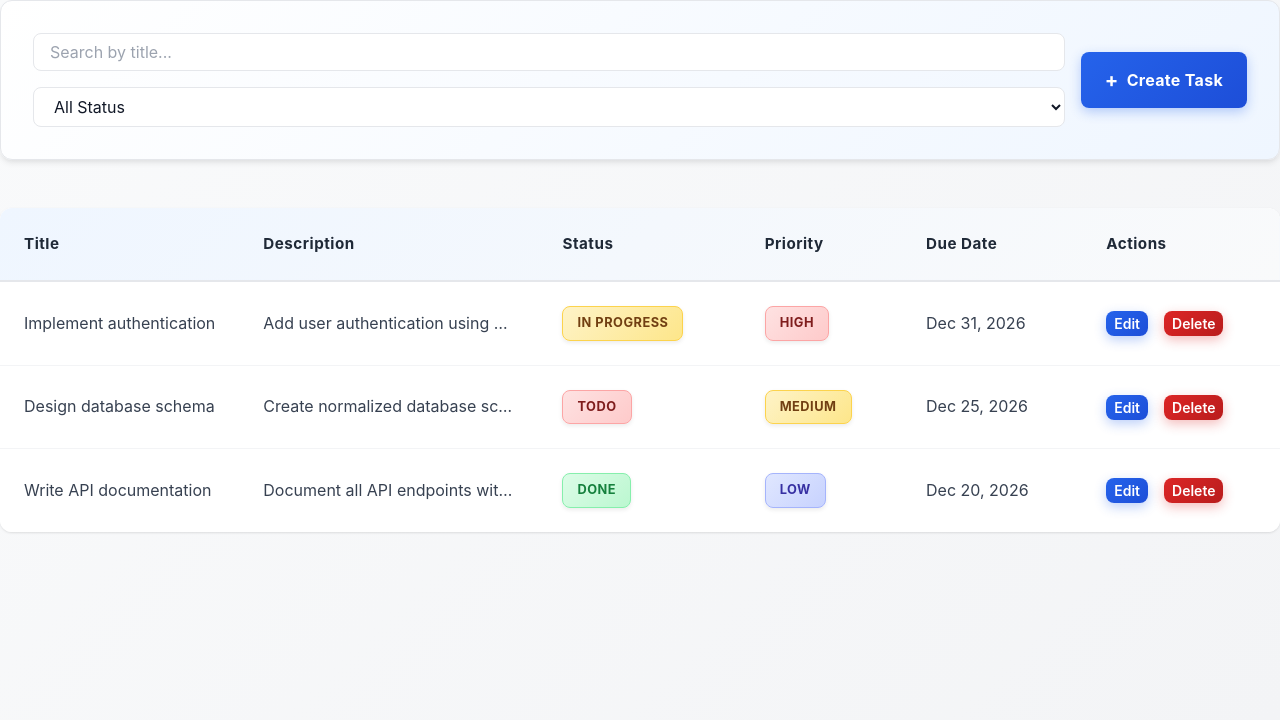
it: TaskList Integration Tests › Delete Task › should show confirmation dialog when delete is clicked
expect the text "Implement authentication" is shown: met, box [0, 281, 239, 365]
Click the button "Delete" in the row of "Implement authentication": (1194, 324) [1164, 311, 1223, 336]
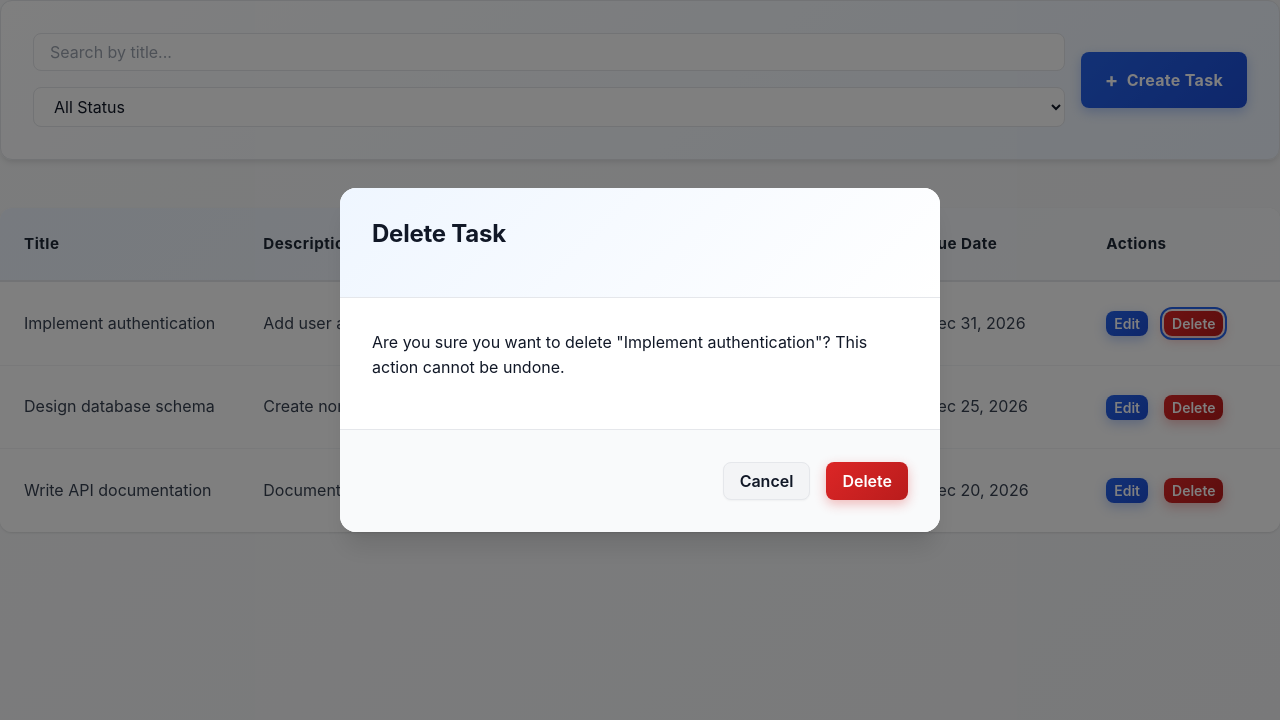
expect the text "Are you sure you want to delete" is shown: met, box [372, 332, 867, 377]
